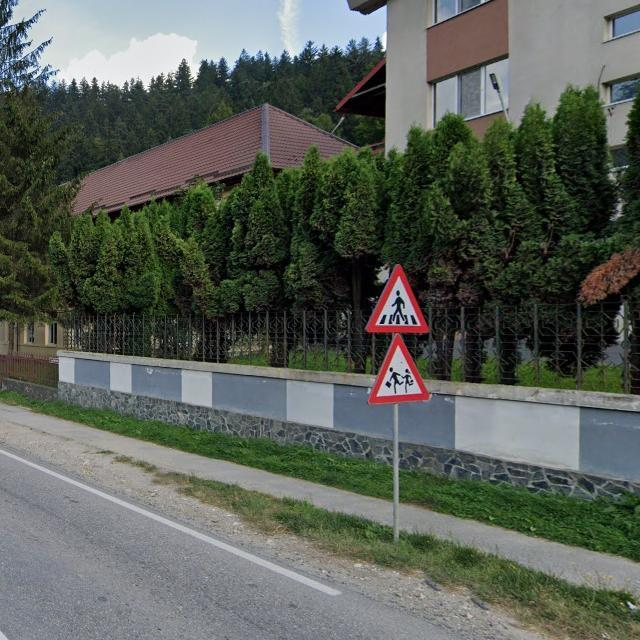warn_crosswalk: (363, 263, 430, 333)
